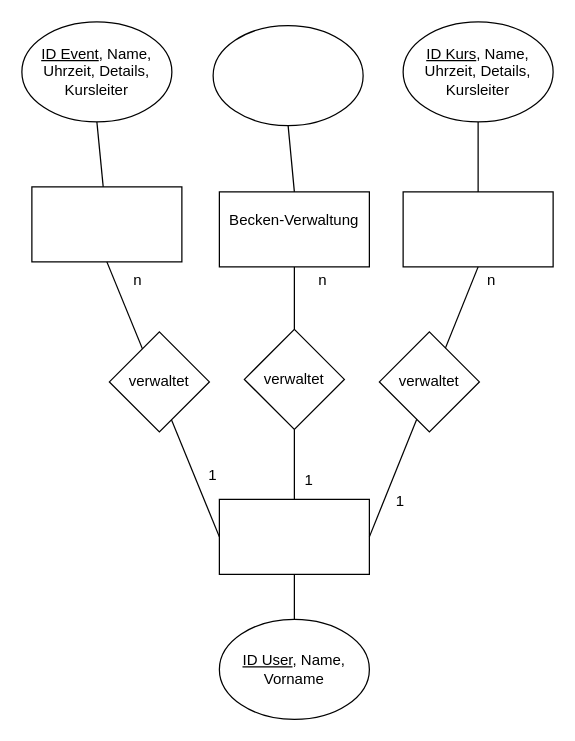
The diagram is 575 pixels wide and 741 high, and some of its shapes have lost their labels. The centre of each missing label's shape, as x and y in pixels:
Event-Verwaltung: (x=106, y=224)
ID Becken , Name: (x=287, y=75)
Kurs-Verwaltung: (x=477, y=229)
User: (x=293, y=536)
